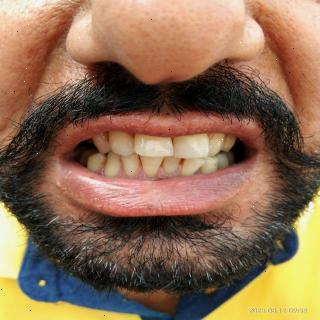maligned: (180, 154, 204, 178), (208, 126, 222, 159), (86, 150, 103, 174), (204, 153, 222, 174)
stains: (91, 156, 113, 172), (134, 152, 150, 171), (95, 129, 111, 147), (174, 157, 190, 173), (155, 157, 168, 172)
